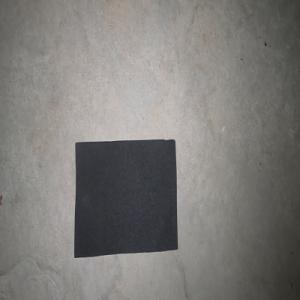PaintChip: (74, 139, 177, 257)
